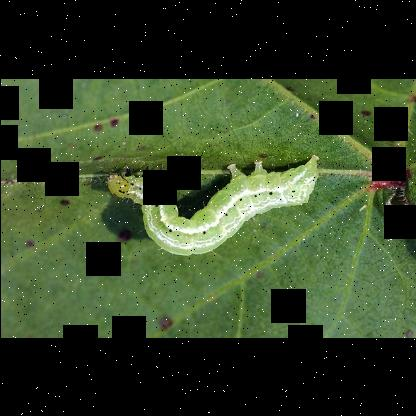oruga: (103, 152, 322, 254)
